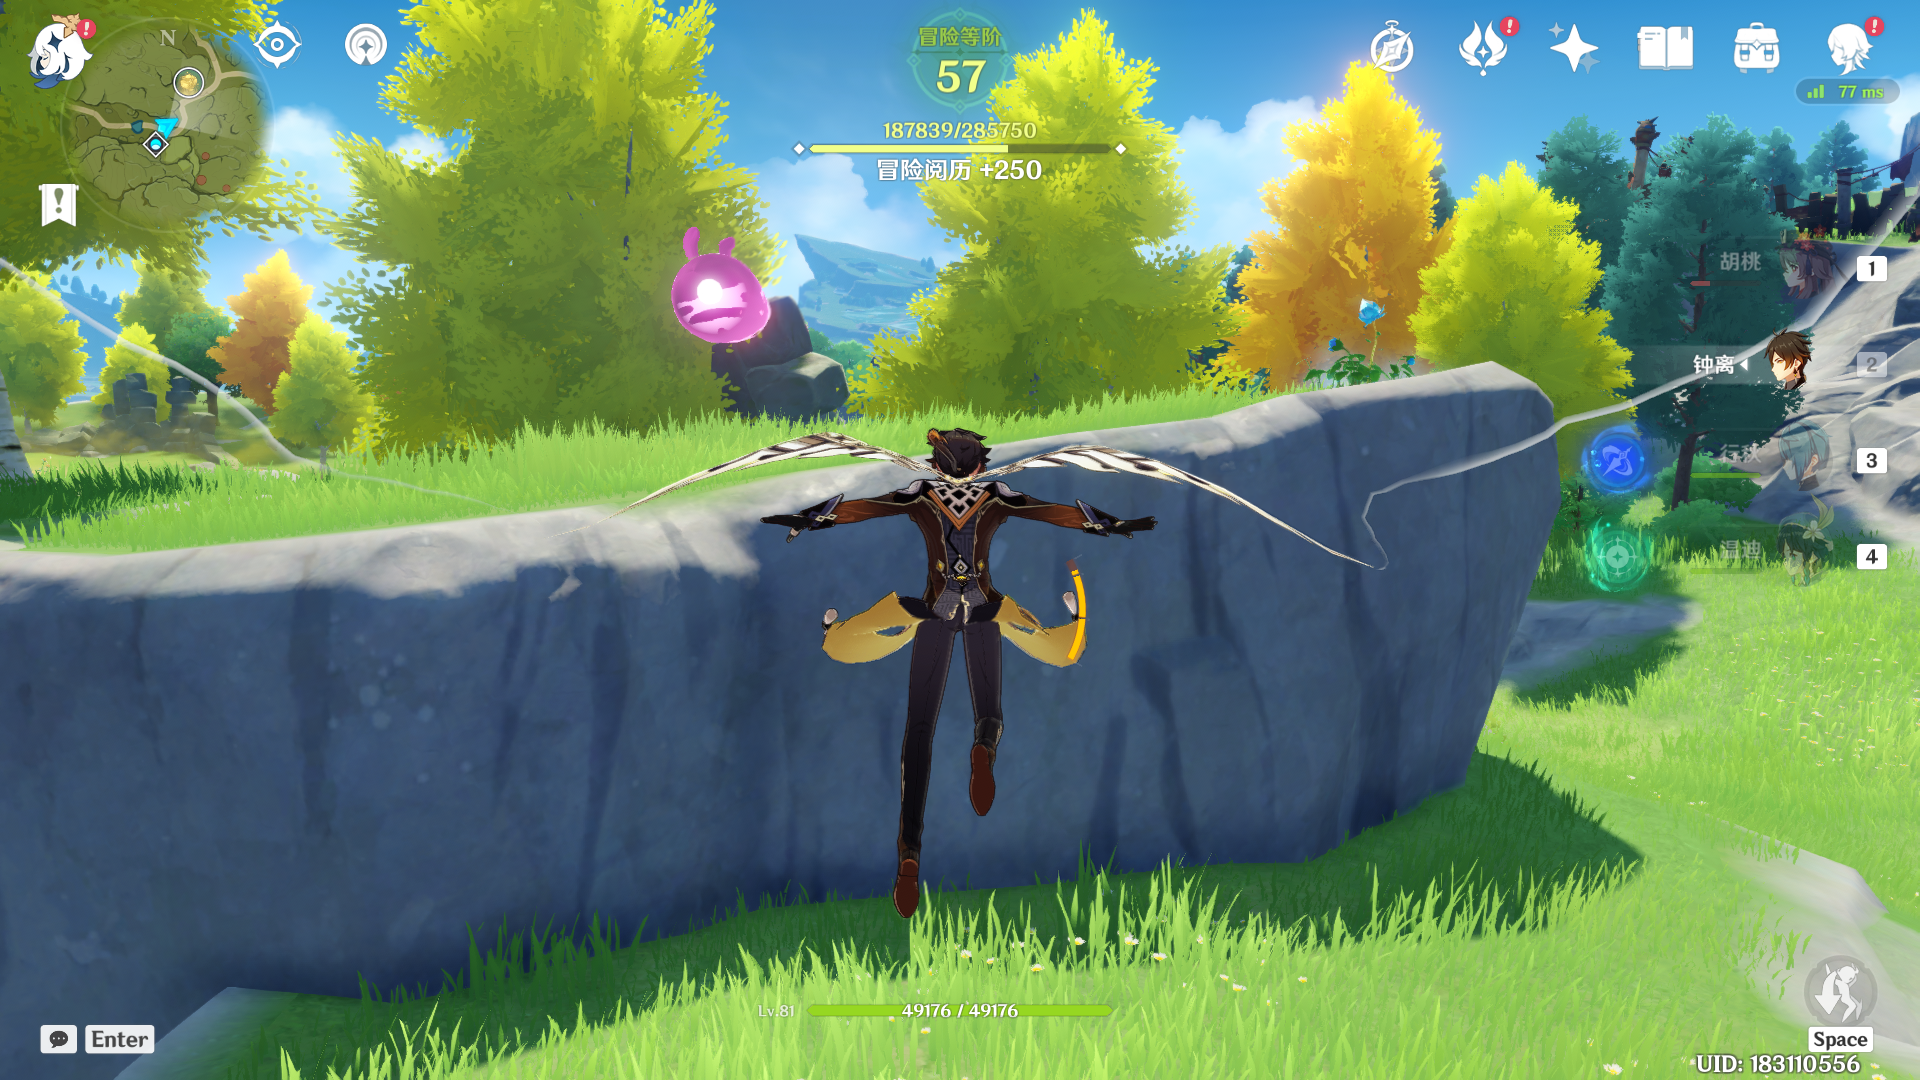character: (758, 377, 1102, 920)
